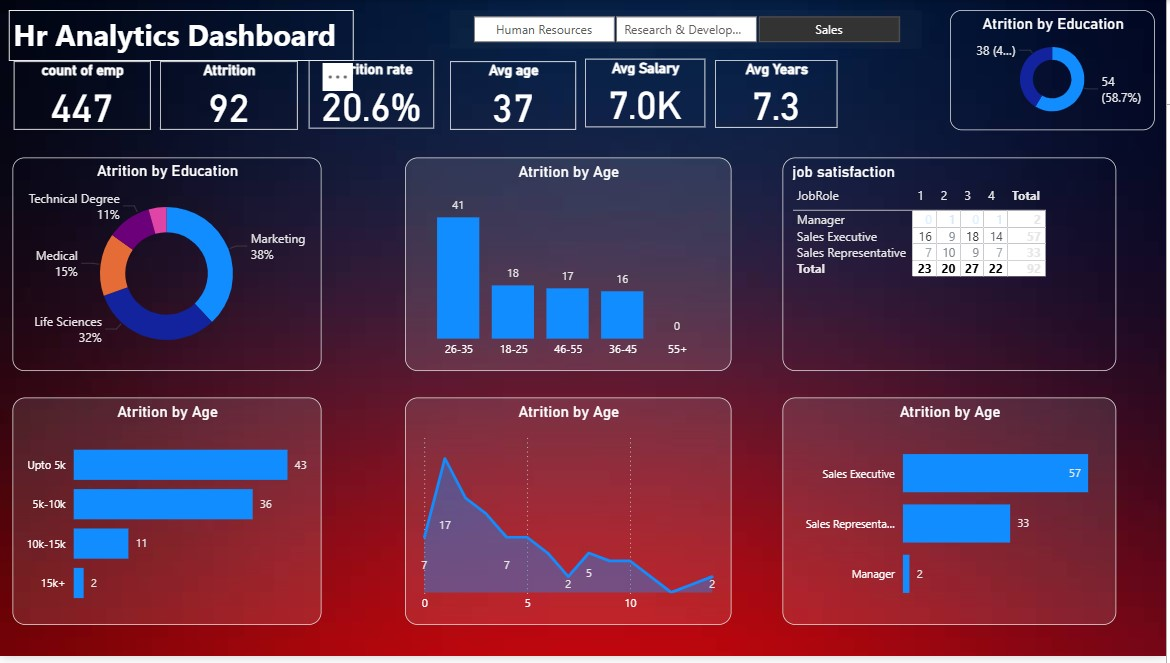

What the dashboard file says about the page in this screenshot:
{"tool":"powerbi","page":{"name":"Page 1","canvas":[1280,720],"ordinal":0},"visuals":[{"type":"card","title":"count of emp","fields":{"Values":["CountNonNull(HR_Analytics.EmpID)"]},"box":[15.4,67.5,150,75],"z":0},{"type":"card","title":"Attrition","fields":{"Values":["Sum(HR_Analytics.AtritionCount)"]},"box":[175.4,67.5,150.9,75.5],"z":1000},{"type":"card","title":"Attrition rate ","fields":{"Values":["HR_Analytics.Attritionrate"]},"box":[338.4,65.9,137.2,75.5],"z":2000},{"type":"card","title":"Avg Salary","fields":{"Values":["Avg(HR_Analytics.MonthlyIncome)"]},"box":[641.6,64.5,131.7,75.5],"z":3000},{"type":"card","title":"Avg age ","fields":{"Values":["Avg(HR_Analytics.Age)"]},"box":[493.4,67.2,138.6,75.5],"z":4000},{"type":"card","title":"Avg Years","fields":{"Values":["Avg(HR_Analytics.YearsAtCompany)"]},"box":[784.9,65.9,134.5,74.1],"z":5000},{"type":"donutChart","title":"Atrition by Education","fields":{"Category":["HR_Analytics.EducationField"],"Y":["Sum(HR_Analytics.AtritionCount)"]},"box":[13.7,172.9,338.9,234.6],"z":6000},{"type":"columnChart","title":"Atrition by Age","fields":{"Category":["HR_Analytics.AgeGroup"],"Y":["Sum(HR_Analytics.AtritionCount)"]},"box":[444.6,172.9,358.1,234.6],"z":7000},{"type":"pivotTable","title":"job satisfaction","fields":{"Rows":["HR_Analytics.JobRole"],"Columns":["HR_Analytics.JobSatisfaction"],"Values":["Sum(HR_Analytics.AtritionCount)"]},"box":[859,172.9,366.4,234.6],"z":8000},{"type":"barChart","title":"Atrition by Age","fields":{"Category":["HR_Analytics.SalarySlab"],"Y":["Sum(HR_Analytics.AtritionCount)"]},"box":[13.7,436.4,338.9,249.7],"z":9000},{"type":"barChart","title":"Atrition by Age","fields":{"Category":["HR_Analytics.JobRole"],"Y":["Sum(HR_Analytics.AtritionCount)"]},"box":[859,436.4,366.4,249.7],"z":10000},{"type":"stackedAreaChart","title":"Atrition by Age","fields":{"Category":["HR_Analytics.YearsAtCompany"],"Y":["Sum(HR_Analytics.AtritionCount)"]},"box":[444.6,436.4,358.1,249.7],"z":11000},{"type":"donutChart","title":"Atrition by Education","fields":{"Category":["HR_Analytics.Gender"],"Y":["Sum(HR_Analytics.AtritionCount)"]},"box":[1042.9,11,225,131.7],"z":12000},{"type":"slicer","fields":{"Values":["HR_Analytics.Department"]},"box":[494,11,517.3,42.5],"z":13000},{"type":"textbox","box":[9.6,11,378.7,56.3],"z":14000}]}

Visuals, with their boxes in screenshot pixels (x1, y1, x2, y2), scaled from the page's 1280x720 canvas onto the 1170x663 screenshot:
"count of emp" card: 14/62/151/131
"Attrition" card: 160/62/298/132
"Attrition rate " card: 309/61/435/130
"Avg Salary" card: 586/59/707/129
"Avg age " card: 451/62/578/131
"Avg Years" card: 717/61/840/129
"Atrition by Education" donutChart: 13/159/322/375
"Atrition by Age" columnChart: 406/159/734/375
"job satisfaction" pivotTable: 785/159/1120/375
"Atrition by Age" barChart: 13/402/322/632
"Atrition by Age" barChart: 785/402/1120/632
"Atrition by Age" stackedAreaChart: 406/402/734/632
"Atrition by Education" donutChart: 953/10/1159/131
slicer - HR_Analytics.Department: 452/10/924/49
textbox: 9/10/355/62
